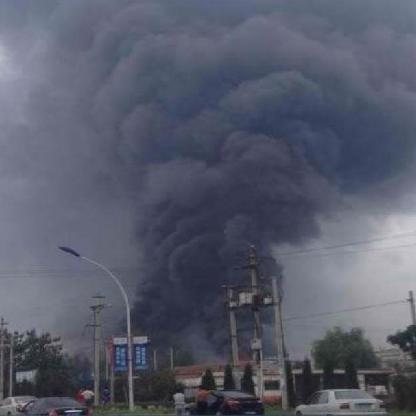smoke: (37, 9, 414, 188), (129, 194, 318, 341)
